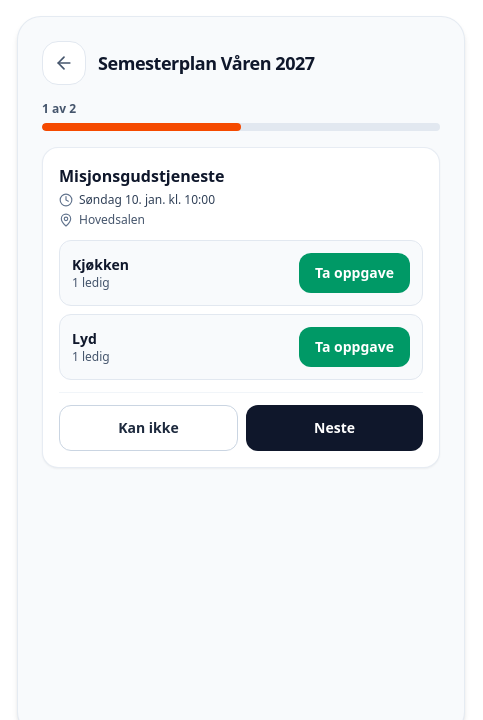
Test case: Semesterplanen på Min side › Ta oppgave tar den med en gang, og med mer å ta blir kortet stående
This screenshot has width=483, height=720.
Click the button "Ta oppgave" in the row of "Kjøkken": coordinates (354, 273) x1=299 y1=253 x2=410 y2=293
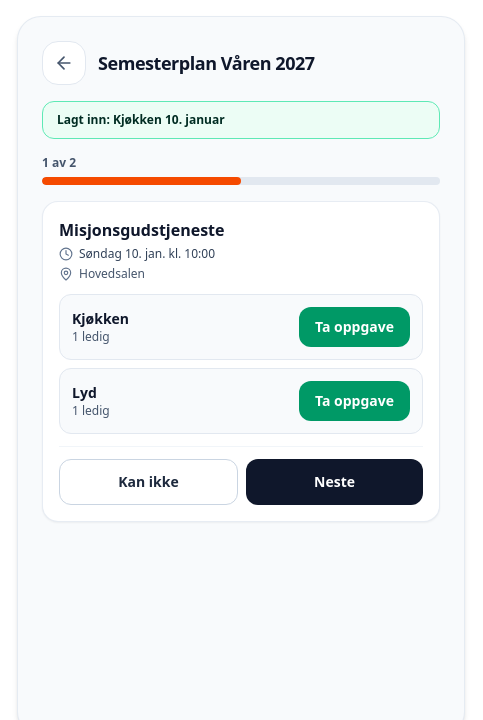
Expected: the text "1 av 2" is shown, x1=42 y1=154 x2=76 y2=171
Now the text "Lagt inn: Kjøkken 10. januar" is shown, box x1=42 y1=101 x2=440 y2=139
